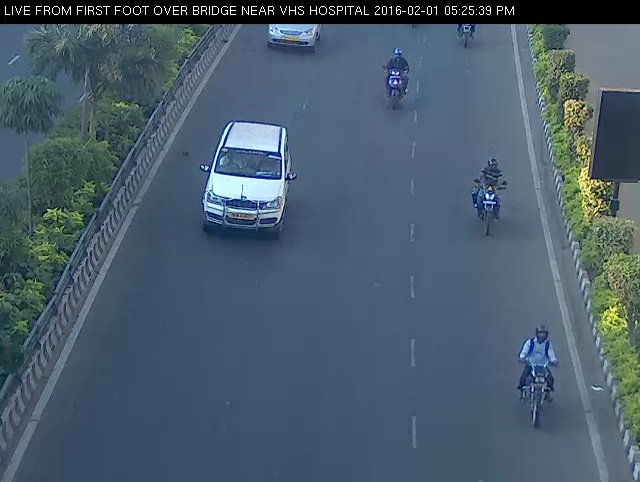Car: (180, 115, 309, 246), (260, 18, 326, 64)
Person: (509, 319, 565, 437), (459, 144, 515, 255), (375, 39, 420, 117)
